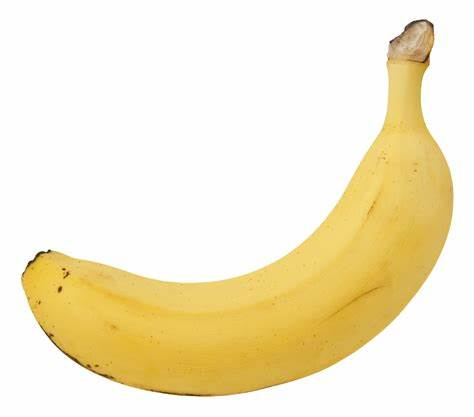Banana: (10, 10, 465, 405)
